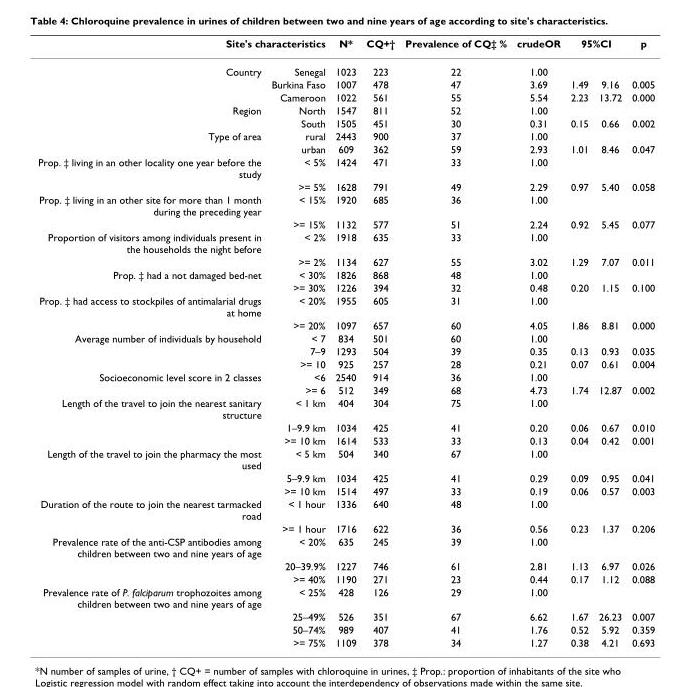table: (37, 36, 654, 648)
table column: (37, 36, 265, 648), (399, 36, 510, 648), (265, 36, 329, 648), (510, 36, 564, 648), (360, 36, 399, 648), (592, 36, 626, 648), (329, 36, 360, 648), (564, 36, 592, 648), (626, 36, 654, 648)
table column header: (37, 36, 654, 77)
table row: (37, 192, 654, 217), (37, 293, 654, 318), (37, 446, 654, 471), (37, 534, 654, 559), (37, 155, 654, 179), (37, 230, 654, 254), (37, 396, 654, 420), (37, 497, 654, 521), (37, 585, 654, 609), (37, 36, 654, 57), (37, 57, 654, 77), (37, 77, 654, 90), (37, 90, 654, 103), (37, 103, 654, 116), (37, 116, 654, 129), (37, 129, 654, 142), (37, 142, 654, 155), (37, 179, 654, 192), (37, 217, 654, 230), (37, 254, 654, 267), (37, 267, 654, 280), (37, 280, 654, 293), (37, 318, 654, 331), (37, 331, 654, 344), (37, 344, 654, 357), (37, 357, 654, 370), (37, 370, 654, 383), (37, 383, 654, 396), (37, 420, 654, 433), (37, 433, 654, 446), (37, 471, 654, 484), (37, 484, 654, 497), (37, 521, 654, 534), (37, 559, 654, 572), (37, 572, 654, 585), (37, 609, 654, 622), (37, 622, 654, 635), (37, 635, 654, 648)
table spanning cell: (37, 585, 265, 648), (37, 446, 265, 497), (37, 534, 265, 585), (37, 396, 265, 446), (37, 331, 265, 370), (37, 192, 265, 230), (37, 293, 265, 331), (37, 155, 265, 192), (37, 230, 265, 267), (37, 497, 265, 534), (37, 36, 329, 57), (37, 103, 265, 129), (37, 129, 265, 155), (37, 267, 265, 293), (37, 370, 265, 396), (399, 36, 510, 77), (510, 36, 564, 77), (360, 36, 399, 77), (564, 36, 626, 57), (329, 36, 360, 77), (626, 36, 654, 77)
